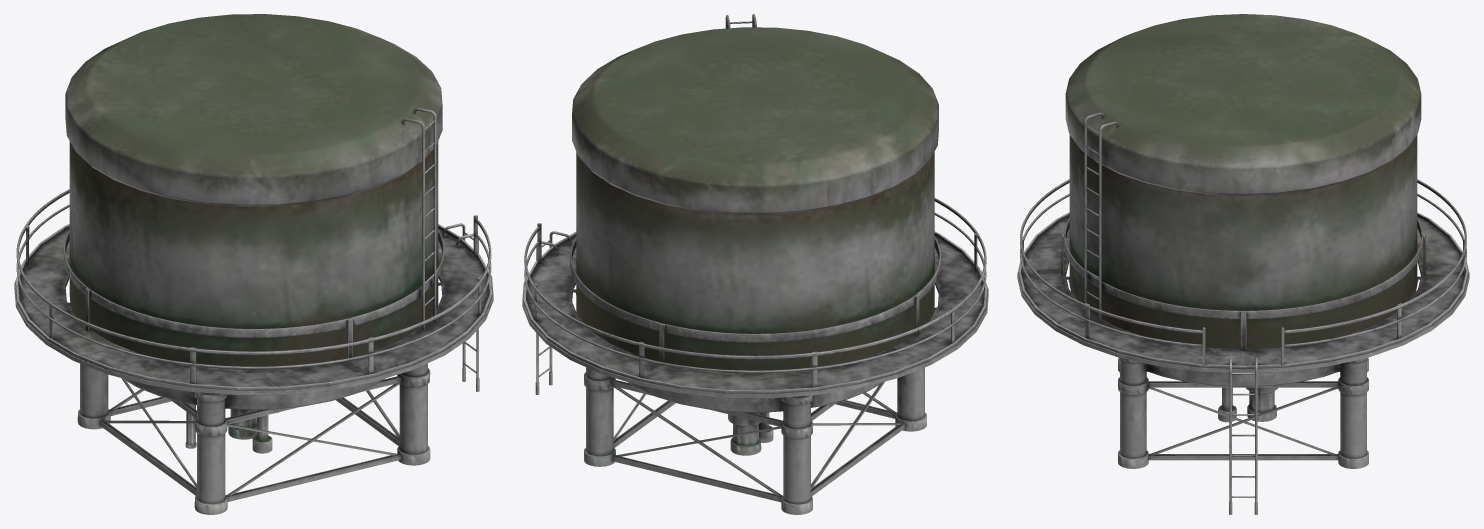
Rendered from water_tank_7.glb.
The picture shows the model from 3 angles, left to right: view 1: azimuth 30°, elevation 25°; view 2: azimuth 150°, elevation 25°; view 3: azimuth 270°, elevation 25°; orthographic projection. The views are drawn at different scales.
Visible parts, largest first — view 1: Object_8, Object_9; view 2: Object_8, Object_9; view 3: Object_8, Object_9.
Part boxes in pixels (x1,y1,x2,y2): Object_8: [16, 14, 491, 505]; Object_9: [14, 57, 493, 514]; Object_8: [524, 27, 986, 514]; Object_9: [522, 14, 988, 511]; Object_8: [1020, 14, 1466, 514]; Object_9: [1017, 64, 1469, 460].
Bounding box in the file's own units: 5.22 × 4.23 × 5.09.
Materials: 1 (1 with a texture image).
